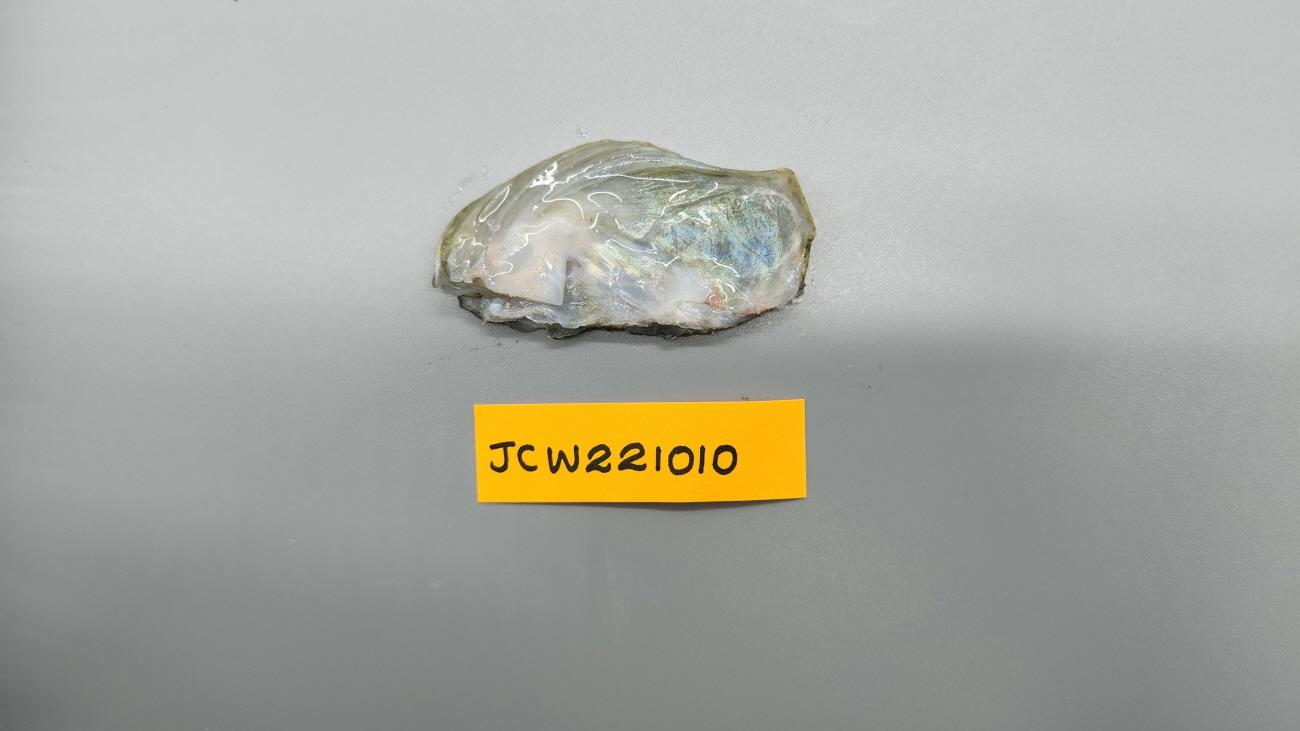POGCN: (432, 141, 814, 342)
